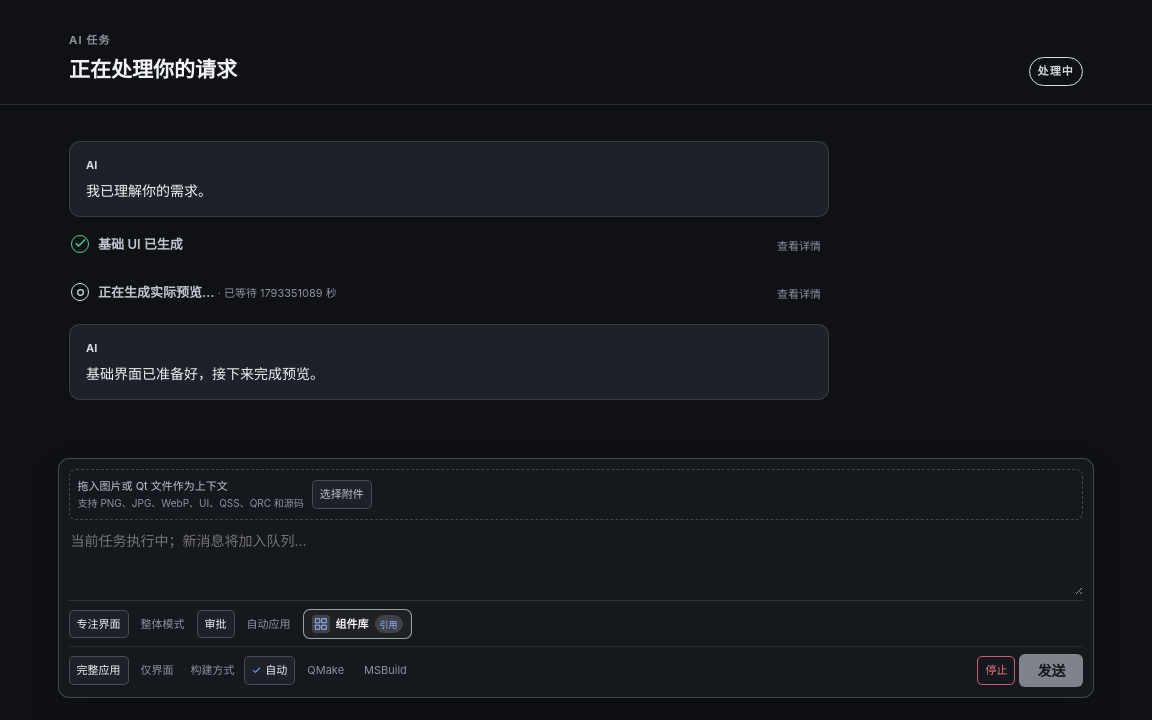
TaskConversationView › queues input while running and exposes a stop action
Later steps or results of the test are not shown.
Check: the text "基础 UI 已生成" is shown, box [98,236,183,252]
Type "再把按钮做圆一些" into the text box named "发送给 AI" at (576, 562), box [69,528,1083,595]
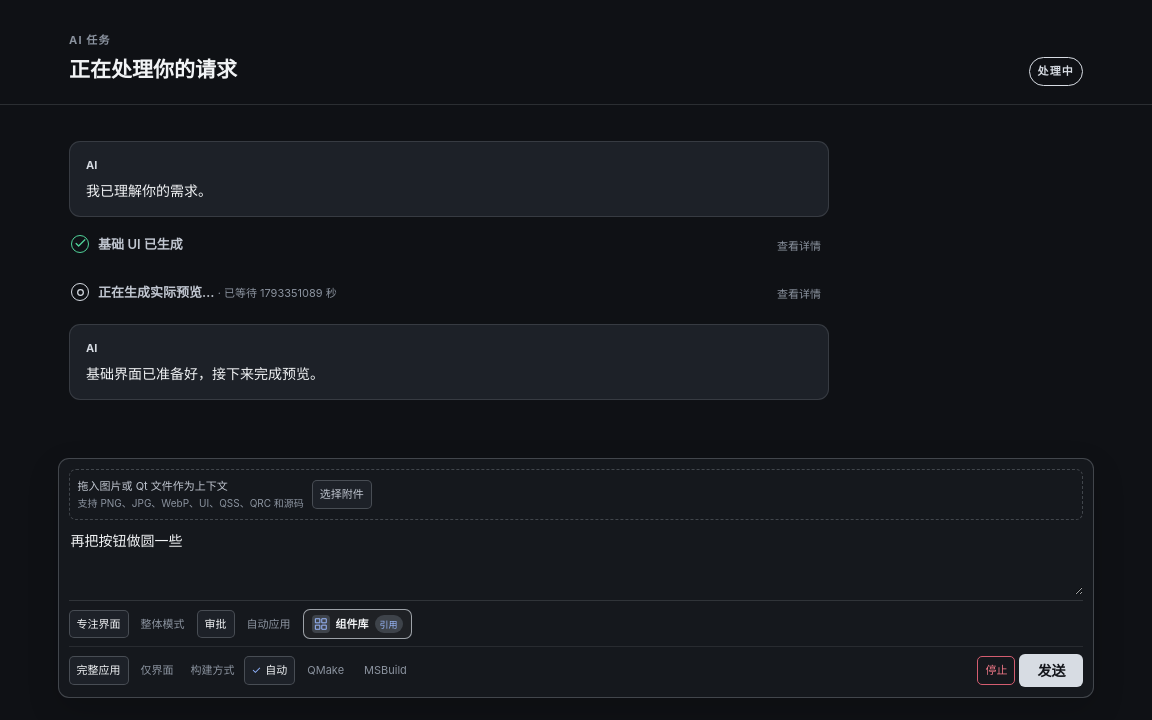
Click the button "发送" at (1051, 670), box [1019,654,1083,687]
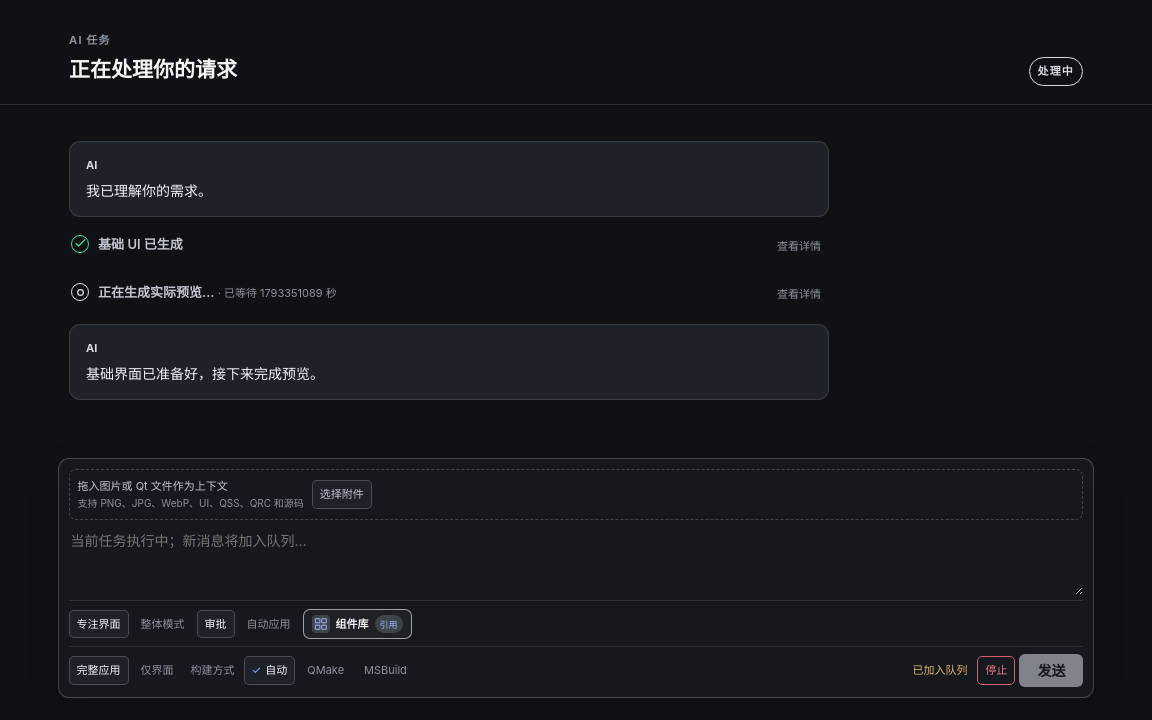
Check: the text "已加入队列" is shown, box [912,662,967,679]
